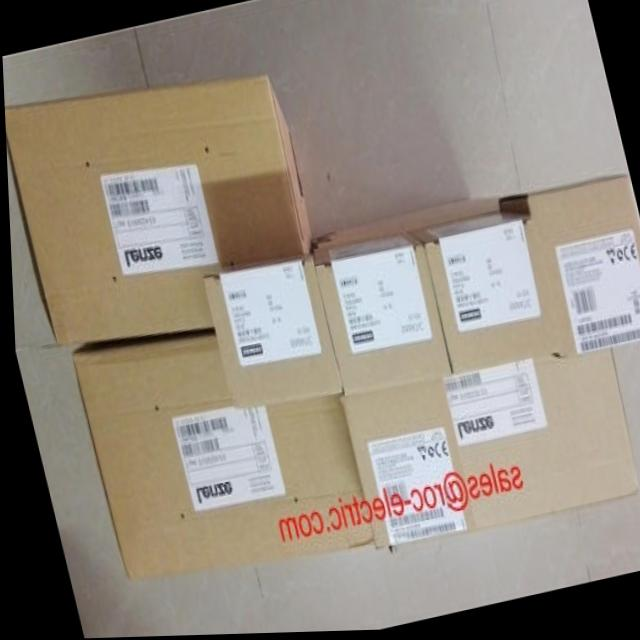box: (4, 77, 311, 347), (68, 330, 368, 583), (336, 353, 637, 551), (495, 175, 640, 358), (406, 214, 557, 376), (199, 245, 342, 409), (311, 229, 449, 396), (309, 197, 496, 246)
